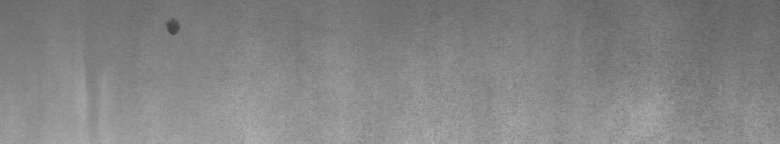fi: (163, 12, 184, 40)
